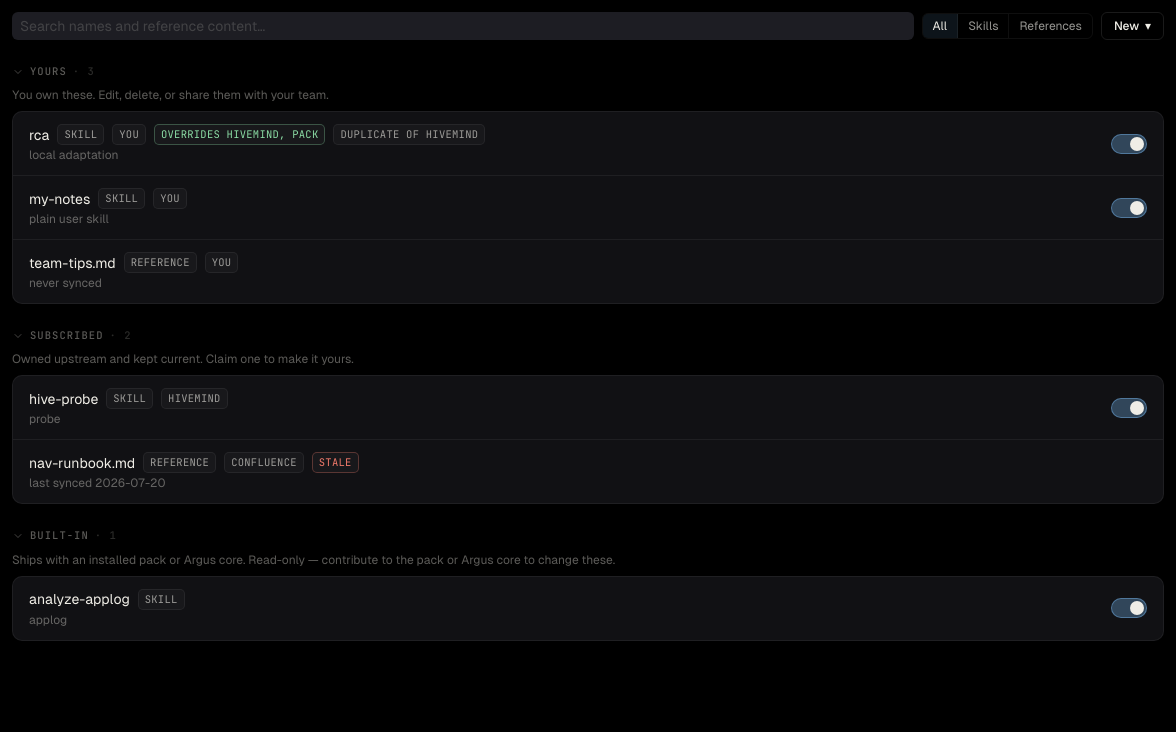
LibraryPage filters › everything filtered out shows a no-matches line
expect the button "rca" is shown: met, box [29,125,50,145]
Type "zzz" into the field named "search library". click: (463, 26)
box: [12,12,914,40]
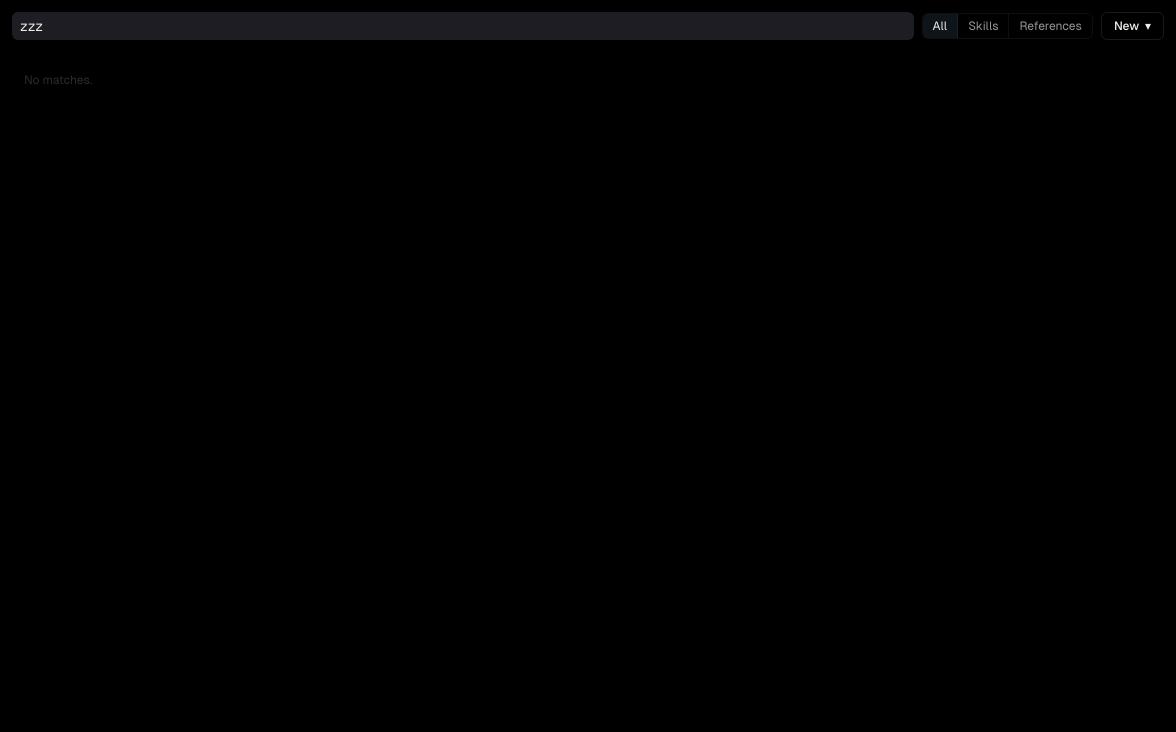
expect the text "No matches." is shown: met, box [24,73,92,87]
